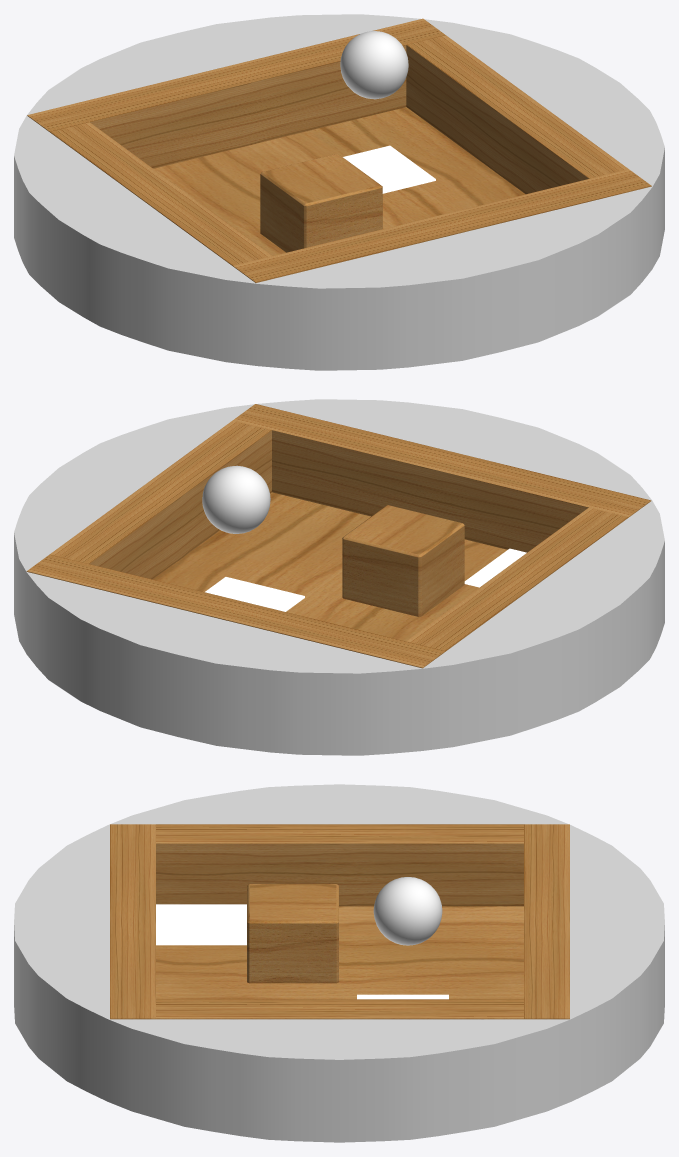
3 renders of one model, top to bottom at view 1: azimuth 30°, elevation 25°; view 2: azimuth 150°, elevation 25°; view 3: azimuth 270°, elevation 25°, orthographic.
Parts seen in each view (by area): view 1: Wall_Out_line_cylinder, Wall_Out_line___1_, Floor, Wall_Out_line___2_, Wall_Out_line__1, Wall_In_line_, Wall_Out_line_, Player, StartPoint; view 2: Wall_Out_line_cylinder, Wall_Out_line__1, Floor, Wall_Out_line___2_, Wall_In_line_, Wall_Out_line___1_, Wall_Out_line_, Player, StartPoint, ClearPoint; view 3: Wall_Out_line_cylinder, Wall_Out_line_, Floor, Wall_In_line_, Wall_Out_line__1, Wall_Out_line___1_, Wall_Out_line___2_, ClearPoint, Player, StartPoint.
Boxes of the visible parts, x1,y1,x2,y2 form: Wall_Out_line_cylinder: (14, 14, 664, 370); Wall_Out_line___1_: (27, 18, 445, 168); Floor: (153, 107, 524, 255); Wall_Out_line___2_: (406, 35, 628, 194); Wall_Out_line__1: (233, 169, 651, 282); Wall_In_line_: (260, 154, 382, 252); Wall_Out_line_: (50, 122, 271, 265); Player: (340, 31, 408, 99); StartPoint: (343, 145, 435, 193); Wall_Out_line_cylinder: (14, 399, 664, 755); Wall_Out_line__1: (233, 404, 651, 552); Floor: (153, 492, 507, 641); Wall_Out_line___2_: (50, 420, 271, 579); Wall_In_line_: (342, 505, 464, 616); Wall_Out_line___1_: (26, 554, 445, 668); Wall_Out_line_: (406, 507, 628, 651); Player: (202, 465, 270, 533); StartPoint: (205, 577, 304, 611); ClearPoint: (464, 548, 526, 587); Wall_Out_line_cylinder: (14, 784, 664, 1142); Wall_Out_line_: (156, 824, 523, 906); Floor: (156, 906, 523, 999); Wall_In_line_: (247, 884, 338, 983); Wall_Out_line__1: (110, 824, 155, 1019); Wall_Out_line___1_: (524, 824, 569, 1019); Wall_Out_line___2_: (156, 999, 523, 1019); ClearPoint: (156, 904, 246, 945); Player: (373, 877, 442, 945); StartPoint: (357, 994, 448, 999).
Bounding box in the file's own units: 2835 × 762 × 2830.
Materials: 5 (2 with a texture image).
